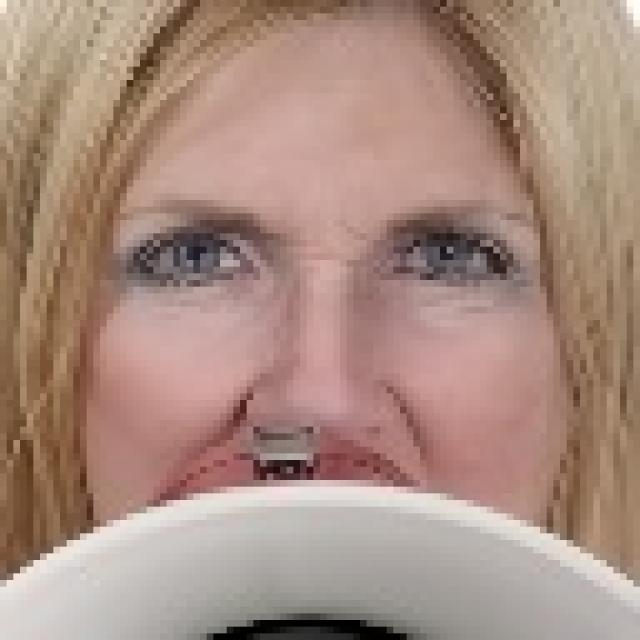angry: (49, 25, 613, 611)
